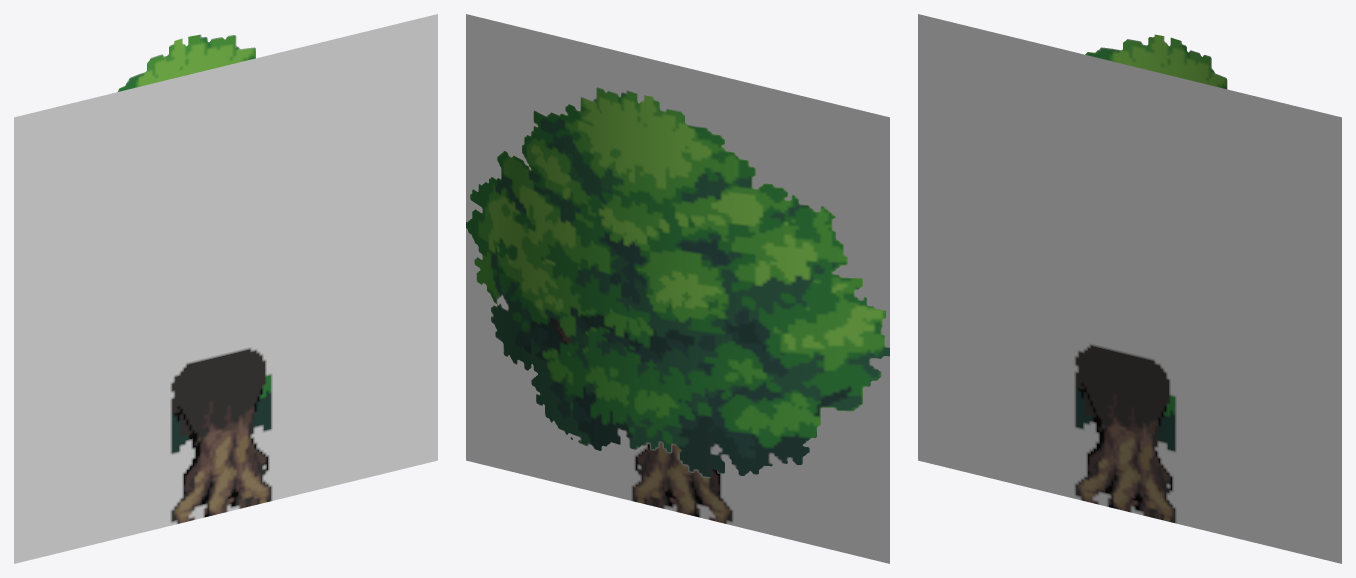
The model's file is Boom.fbx.
The picture shows the model from 3 angles, left to right: view 1: azimuth 30°, elevation 25°; view 2: azimuth 150°, elevation 25°; view 3: azimuth 330°, elevation 25°; orthographic projection.
Parts seen in each view (by area): view 1: eikenboom_stam2, eikenboom_bladeren2; view 2: eikenboom_bladeren2, eikenboom_stam2; view 3: eikenboom_stam2, eikenboom_bladeren2.
Boxes of the visible parts, bbox=[...] form: eikenboom_stam2: bbox=[14, 14, 437, 563]; eikenboom_bladeren2: bbox=[118, 34, 255, 91]; eikenboom_bladeren2: bbox=[466, 87, 889, 478]; eikenboom_stam2: bbox=[466, 14, 889, 563]; eikenboom_stam2: bbox=[918, 14, 1341, 563]; eikenboom_bladeren2: bbox=[1085, 34, 1227, 89].
Bounding box in the file's own units: 993 × 1000 × 159.
2 materials, 2 textured.
